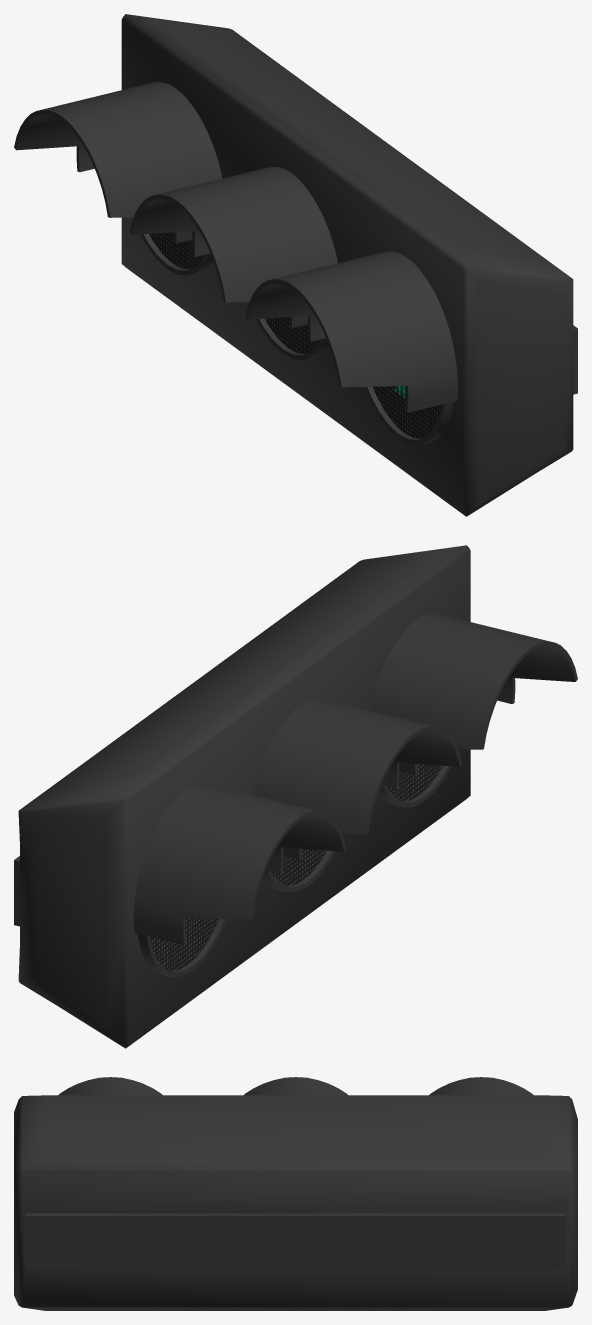
File: 横向右转灯_GreenLight.fbx
3 renders of one model, top to bottom at view 1: azimuth 30°, elevation 25°; view 2: azimuth 150°, elevation 25°; view 3: azimuth 270°, elevation 25°, orthographic. The views are drawn at different scales.
Visible parts, largest first — view 1: 横向右转灯_GreenLight; view 2: 横向右转灯_GreenLight; view 3: 横向右转灯_GreenLight.
Boxes of the visible parts, bbox=[...] form: 横向右转灯_GreenLight: bbox=[14, 14, 577, 516]; 横向右转灯_GreenLight: bbox=[14, 545, 577, 1048]; 横向右转灯_GreenLight: bbox=[14, 1077, 577, 1310].
Size of the model in its own units: 0.6 by 0.65 by 1.58.
3 materials, 2 textured.
